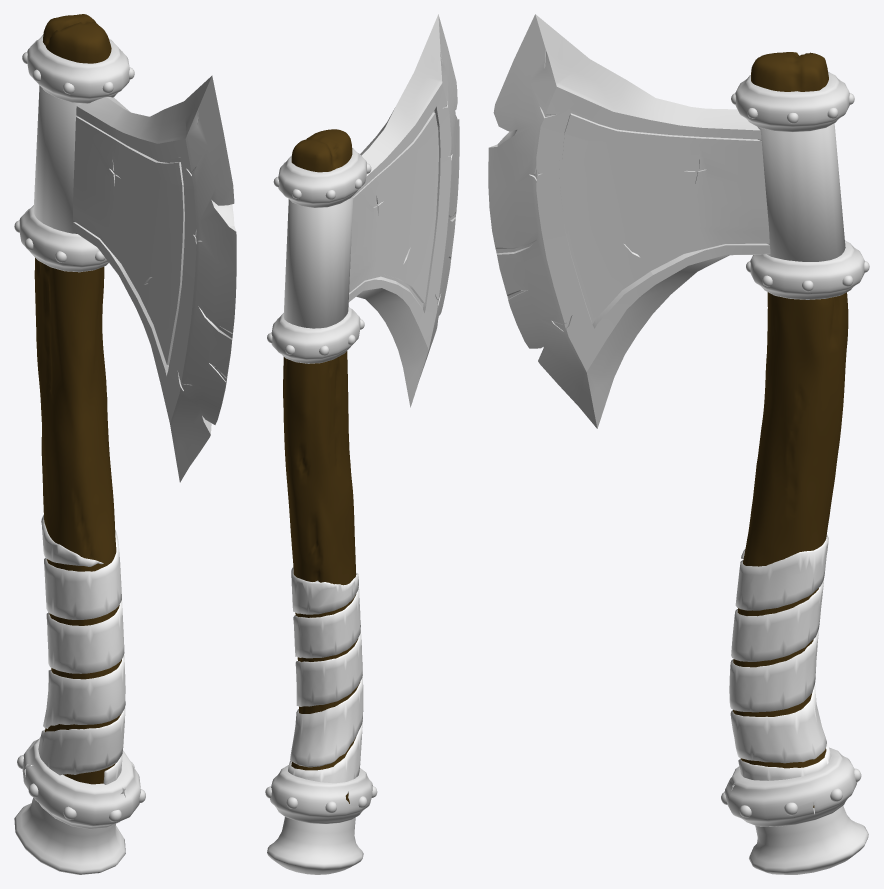
File: axe_model.fbx
The picture shows the model from 3 angles, left to right: view 1: azimuth 30°, elevation 25°; view 2: azimuth 150°, elevation 25°; view 3: azimuth 270°, elevation 25°; orthographic projection. The views are drawn at different scales.
Visible parts, largest first — view 1: Plane.003, Cube.031, Plane, Cube.032, Cylinder, Cube.035, Cube.029, Cube.030, Cube.034; view 2: Plane.003, Cube.031, Plane, Cylinder, Cube.035, Cube.032, Cube.029, Cube.030, Cube.034; view 3: Plane.003, Cube.031, Plane, Cylinder, Cube.032, Cube.035, Cube.029, Cube.030.
Part boxes in pixels (<box>): Plane.003: <box>73,75,236,482</box>; Cube.031: <box>34,14,121,784</box>; Plane: <box>38,514,125,784</box>; Cube.032: <box>22,737,140,829</box>; Cylinder: <box>33,85,82,233</box>; Cube.035: <box>14,797,125,874</box>; Cube.029: <box>27,35,129,103</box>; Cube.030: <box>19,205,108,272</box>; Cube.034: <box>17,755,145,821</box>; Plane.003: <box>348,14,459,407</box>; Cube.031: <box>283,129,360,803</box>; Plane: <box>288,567,363,794</box>; Cylinder: <box>283,196,353,328</box>; Cube.035: <box>267,804,363,874</box>; Cube.032: <box>270,765,372,823</box>; Cube.029: <box>278,148,366,207</box>; Cube.030: <box>271,307,360,363</box>; Cube.034: <box>265,786,377,813</box>; Plane.003: <box>488,14,770,428</box>; Cube.031: <box>733,52,848,807</box>; Plane: <box>729,534,831,804</box>; Cylinder: <box>758,123,845,261</box>; Cube.032: <box>724,747,857,826</box>; Cube.035: <box>749,806,868,874</box>; Cube.029: <box>735,71,849,132</box>; Cube.030: <box>750,240,864,299</box>.
Bounding box in the file's own units: 91.55 × 745 × 302.
